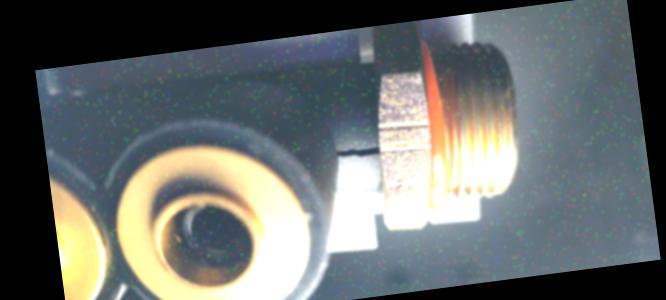craze: (337, 143, 380, 164)
